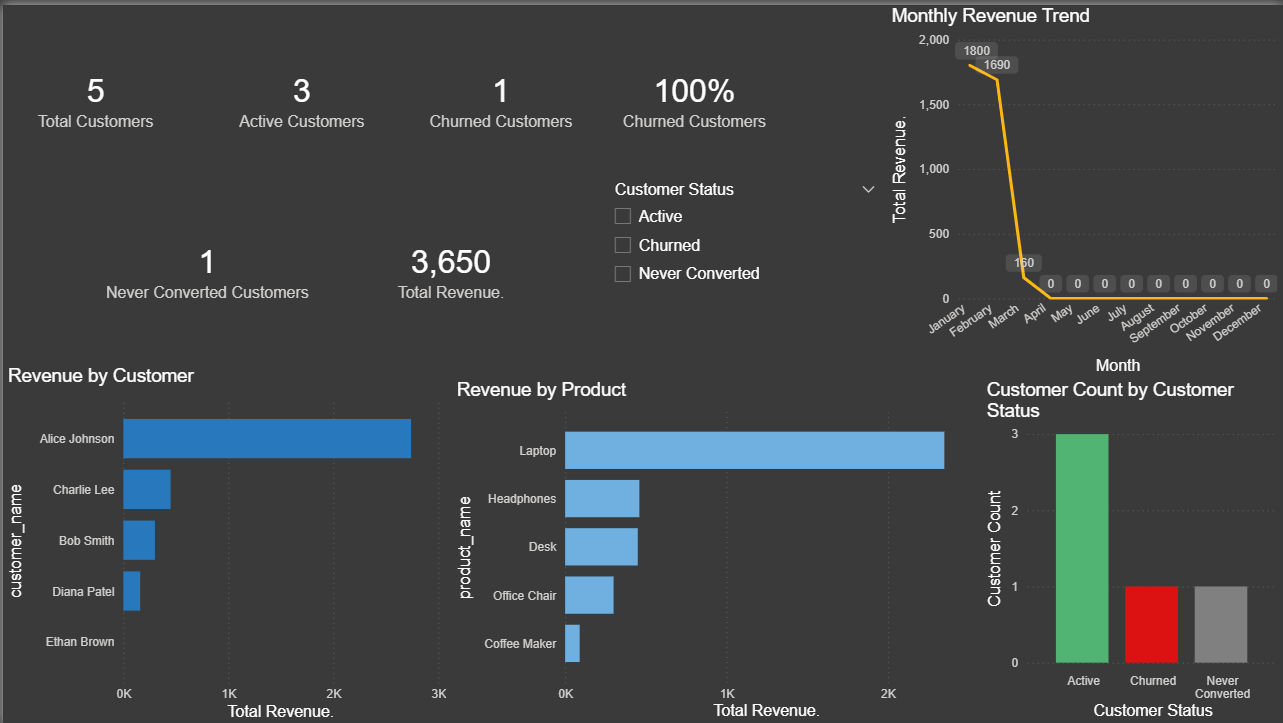

Layout of this report page (visuals, bound fields, positions):
{"tool":"powerbi","page":{"name":"Page 1","canvas":[1280,720],"ordinal":0},"visuals":[{"type":"lineChart","title":"Monthly Revenue Trend","fields":{"Category":["public orders.order_date.Variation.Date Hierarchy.Month"],"Y":["public customers.Total Revenue."]},"box":[884.3,0,395.7,374.3],"z":0},{"type":"card","fields":{"Values":["public customers.Total Revenue (Zero)"]},"box":[347.1,171.4,201.4,187.1],"z":1000},{"type":"clusteredBarChart","title":"Revenue by Customer","fields":{"Category":["public customers.customer_name"],"Y":["public customers.Total Revenue."]},"box":[0,360,448.6,360],"z":2000},{"type":"clusteredBarChart","title":"Revenue by Product","fields":{"Category":["public products.product_name"],"Y":["public customers.Total Revenue."]},"box":[448.6,374.3,530,345.7],"z":3000},{"type":"slicer","fields":{"Values":["public customers.Customer Status"]},"box":[598.6,171.4,285.7,170],"z":4000},{"type":"card","fields":{"Values":["public customers.Active Customers"]},"box":[201.4,0,195.7,187.1],"z":5000},{"type":"card","fields":{"Values":["public customers.Churned Customers"]},"box":[397.1,0,201.4,187.1],"z":6000},{"type":"card","fields":{"Values":["public customers.Never Converted Customers"]},"box":[92.9,187.1,224.3,154.3],"z":7000},{"type":"card","title":"Churn Rate (Based on Last 60 Days)","fields":{"Values":["public customers.Churned Customers"]},"box":[598.6,20,185.7,147.1],"z":8000},{"type":"card","fields":{"Values":["public customers.Total Customers"]},"box":[0,0,185.7,187.1],"z":9000},{"type":"clusteredColumnChart","fields":{"Category":["public customers.Customer Status"],"Y":["public customers.Customer Count"]},"box":[978.6,374.3,301.4,345.7],"z":10000}]}

Visuals, with their boxes in screenshot pixels (x1, y1, x2, y2), scaled from the page's 1280x720 canvas onto the 1283x723 screenshot:
"Monthly Revenue Trend" lineChart: rect(886, 0, 1282, 376)
card - public customers.Total Revenue (Zero): rect(348, 172, 550, 360)
"Revenue by Customer" clusteredBarChart: rect(0, 362, 450, 722)
"Revenue by Product" clusteredBarChart: rect(450, 376, 981, 722)
slicer - public customers.Customer Status: rect(600, 172, 886, 343)
card - public customers.Active Customers: rect(202, 0, 398, 188)
card - public customers.Churned Customers: rect(398, 0, 600, 188)
card - public customers.Never Converted Customers: rect(93, 188, 318, 343)
"Churn Rate (Based on Last 60 Days)" card: rect(600, 20, 786, 168)
card - public customers.Total Customers: rect(0, 0, 186, 188)
clusteredColumnChart - public customers.Customer Status x public customers.Customer Count: rect(981, 376, 1282, 722)
